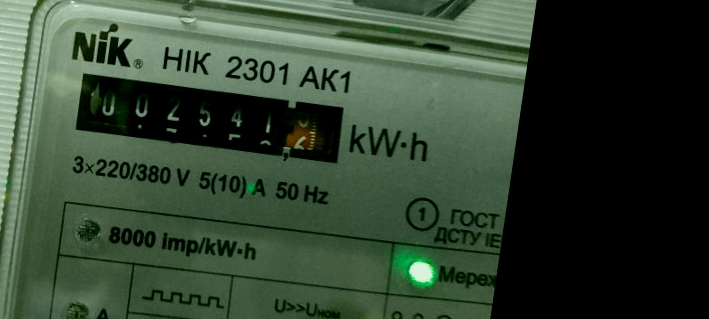0: (129, 85, 153, 120), (98, 87, 119, 118)
1: (257, 100, 277, 135)
2: (160, 89, 186, 125)
4: (226, 97, 247, 130)
5: (194, 95, 214, 129)
6: (289, 129, 308, 152)
screen: (57, 52, 367, 185)
